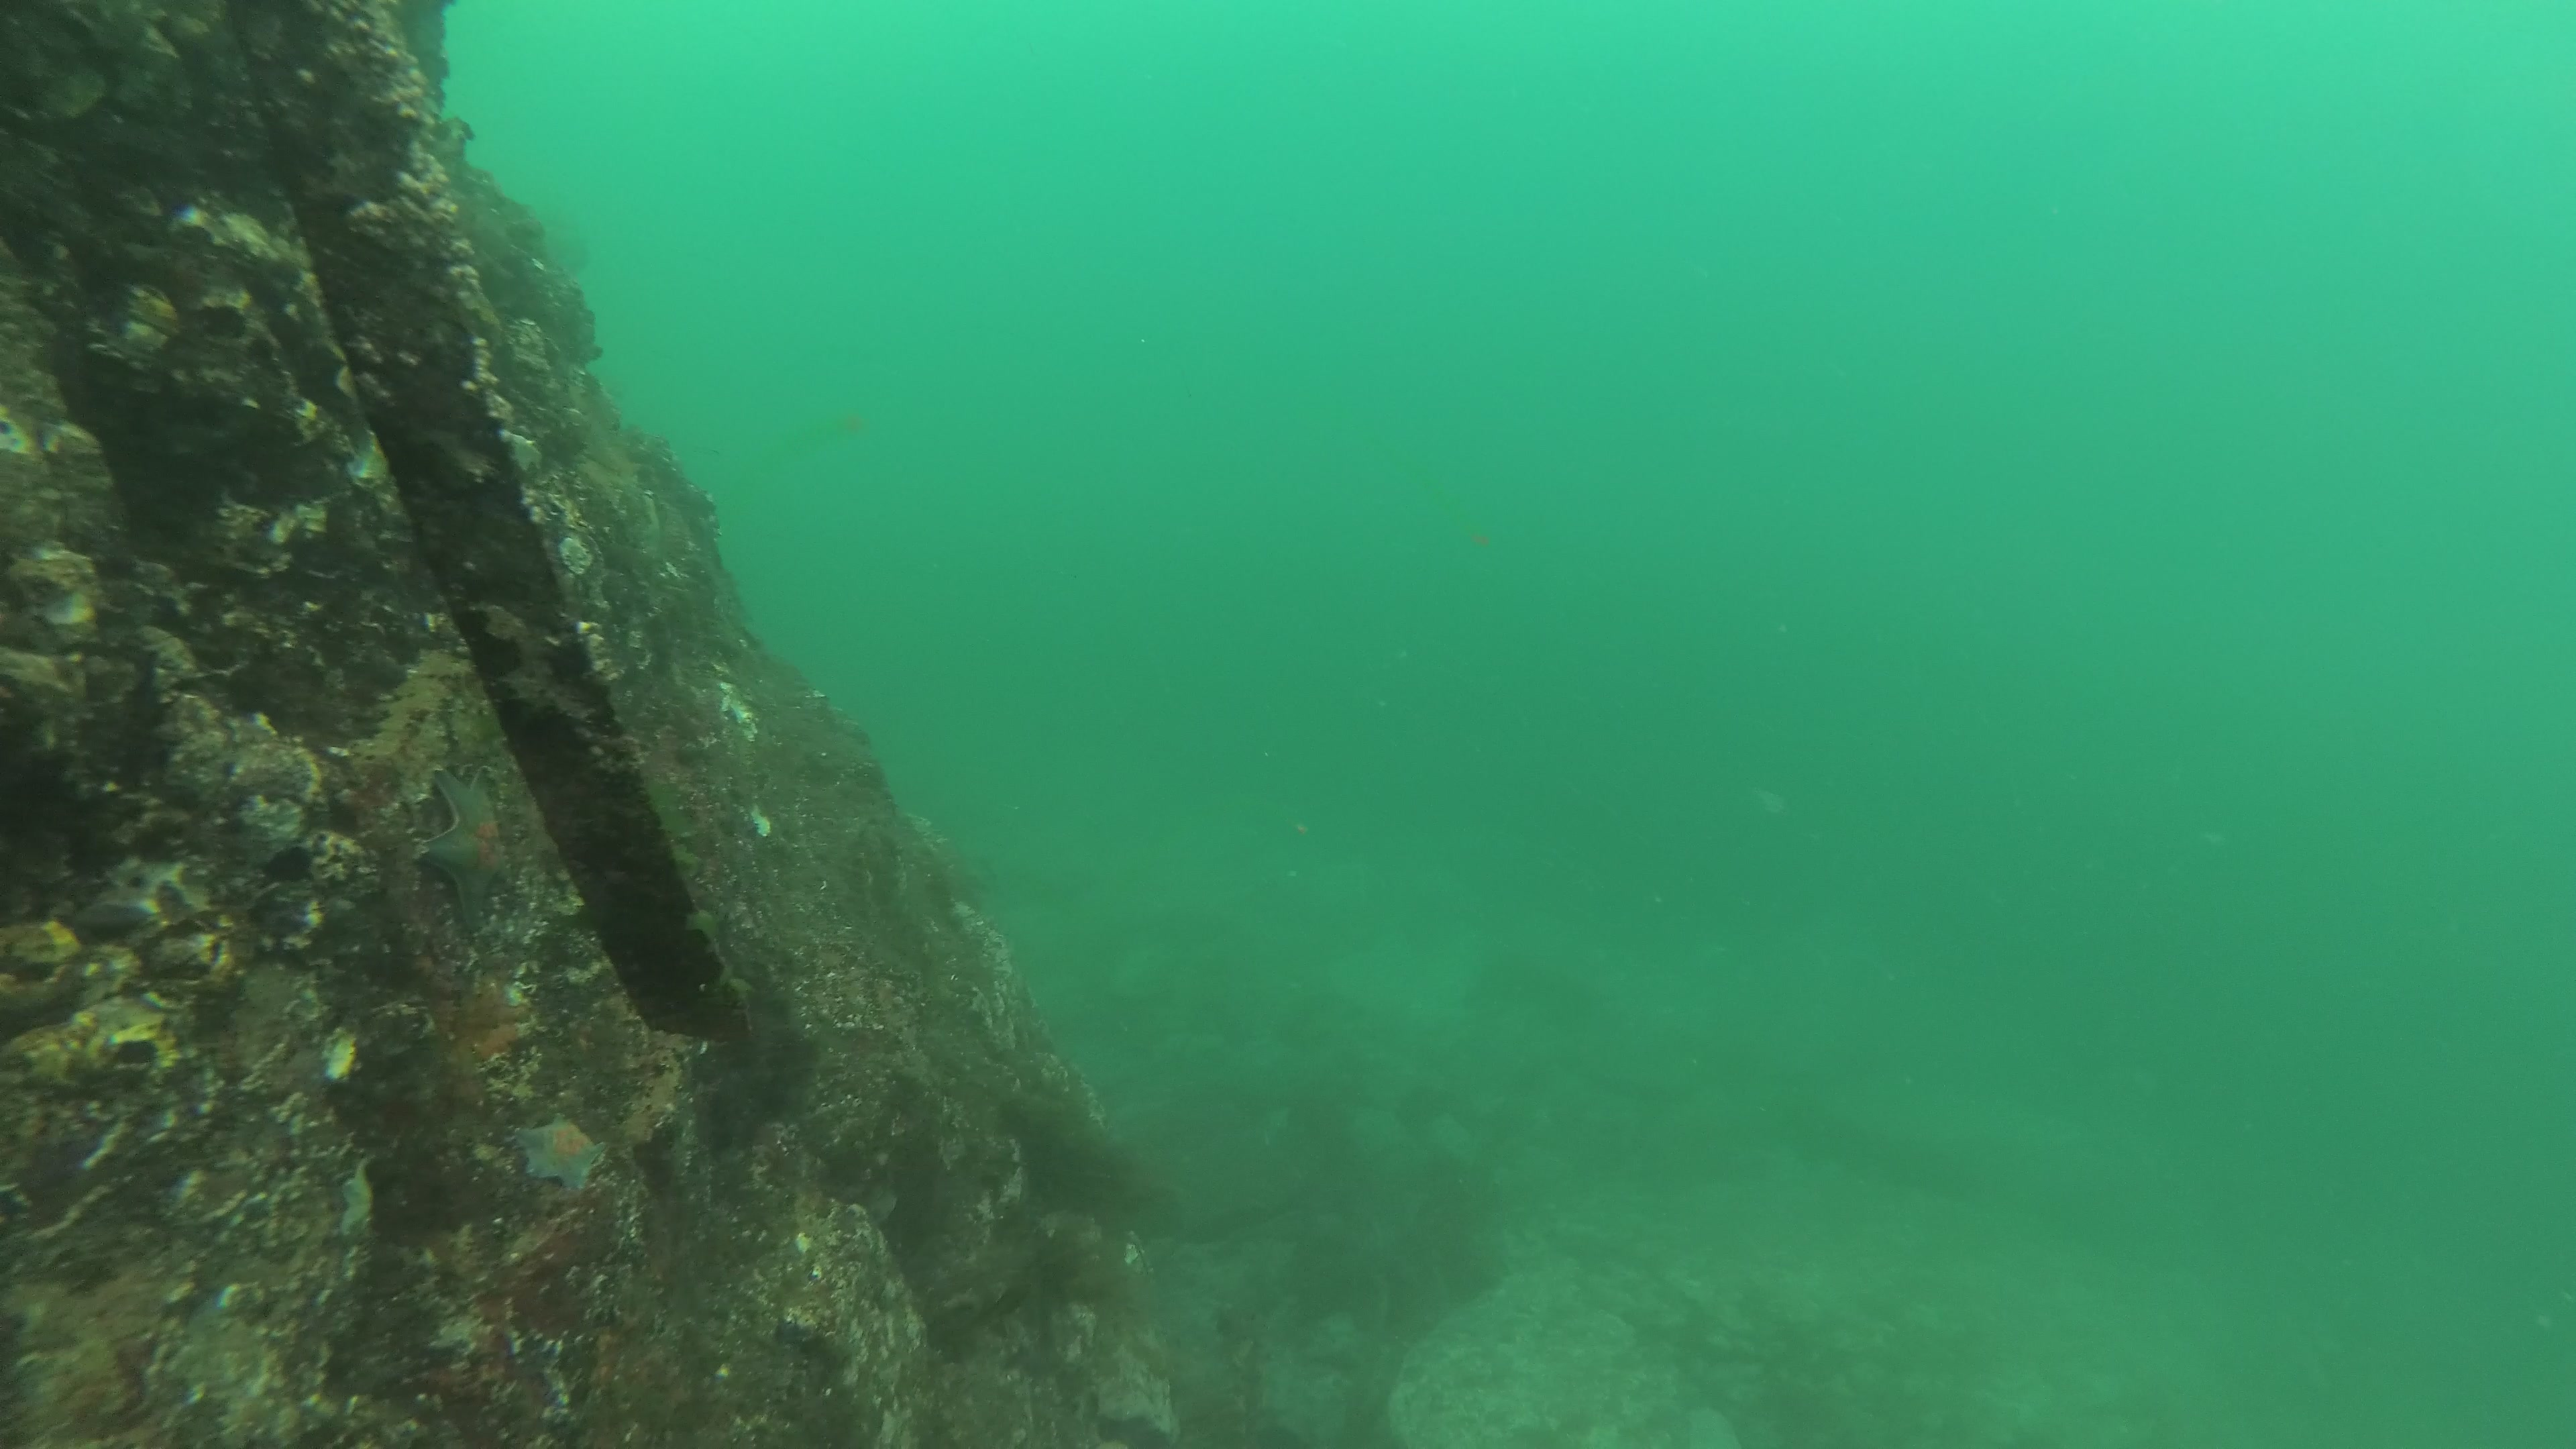starfish: (409, 757, 524, 931), (506, 1102, 605, 1194), (336, 1157, 379, 1246)
